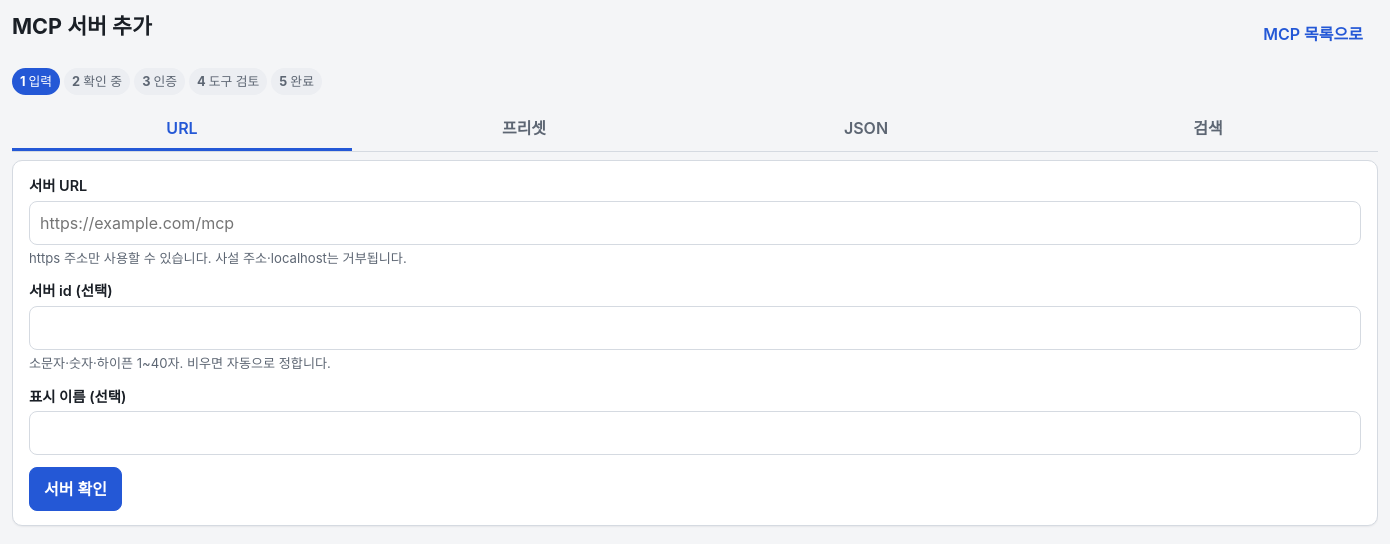
Test case: 추가 마법사 — 레지스트리 검색 (Phase 3) › explains when registry search is not configured
Step 1. Click the tab "검색" → x=1208, y=129, box [1038,107,1378,151]
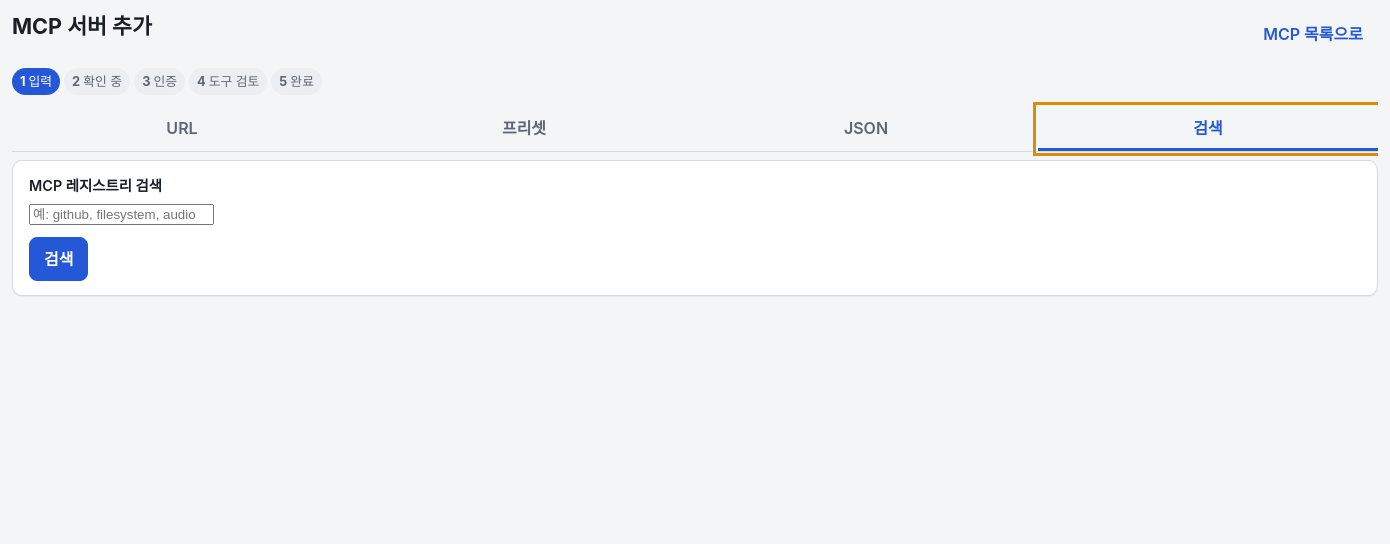
Step 2. Click the button "검색" → x=59, y=259, box [29,237,88,281]
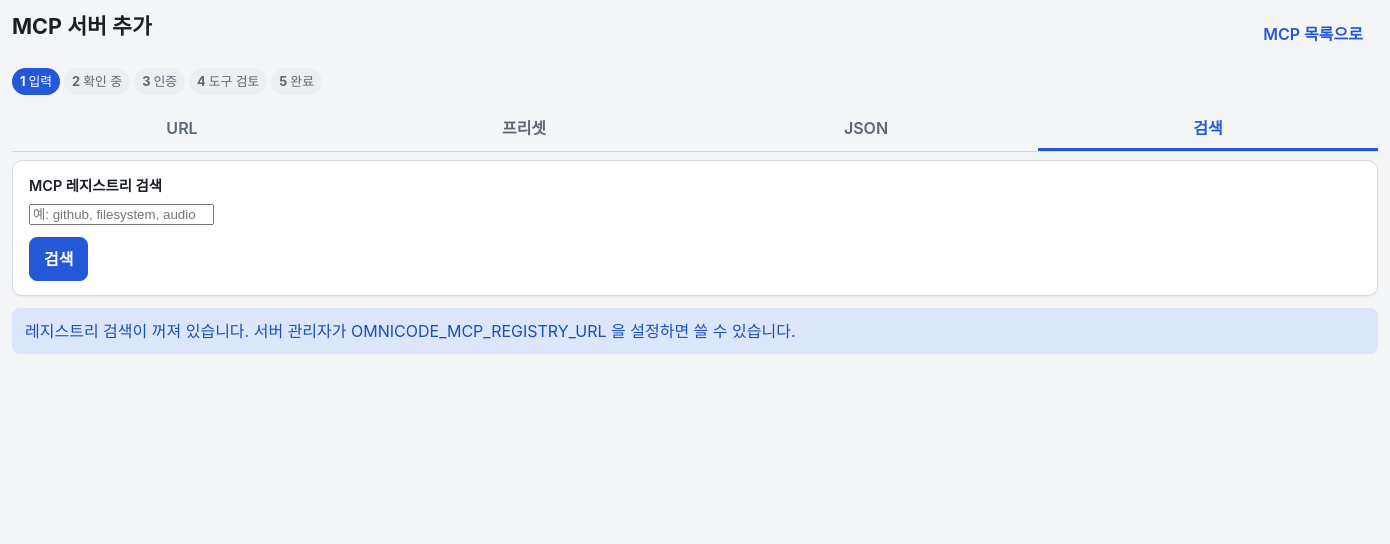
Expected: the text "레지스트리 검색이 꺼져 있습니다. 서버 관리자가 OMNICODE_MCP_REGISTRY_URL 을 설정하면 쓸 수 있습니다." is shown, [12,308,1378,354]
